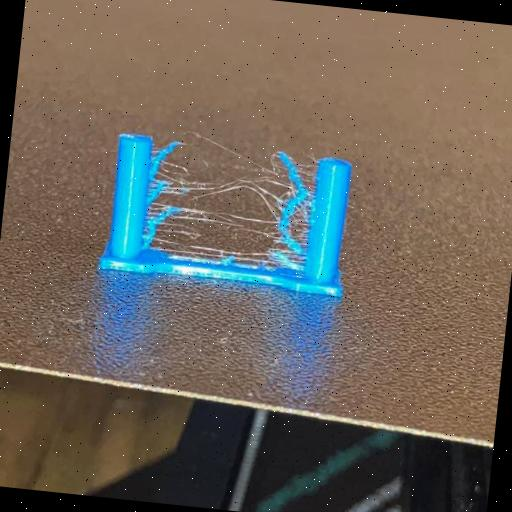stringing: (139, 148, 326, 260)
